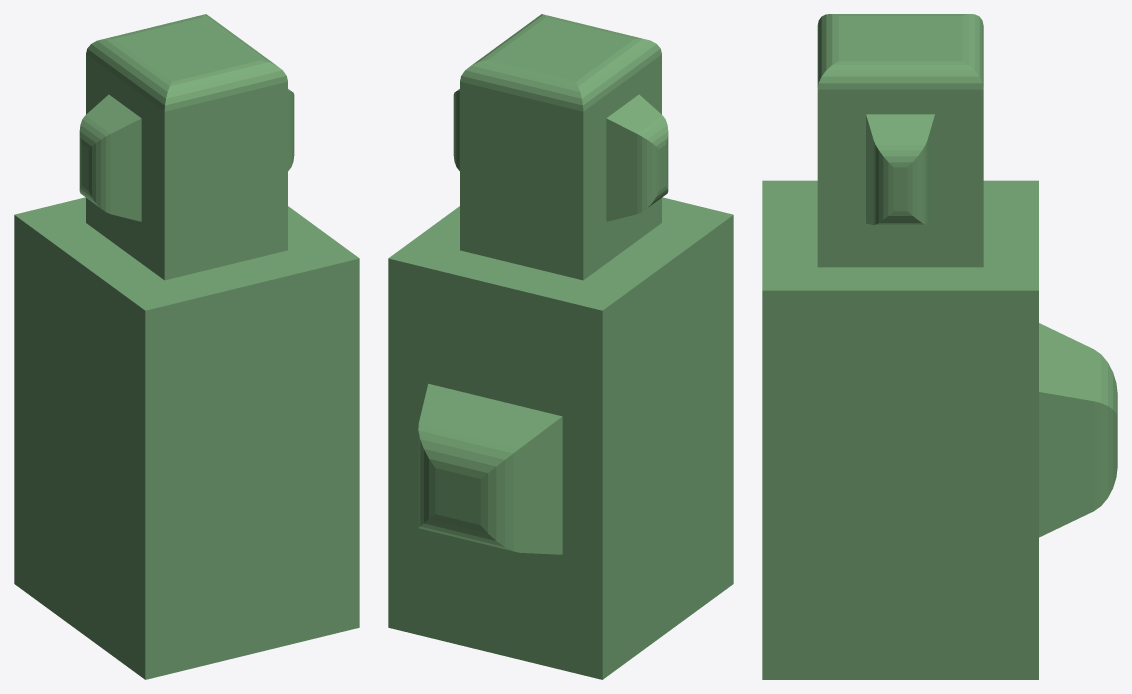
File: Figure_4.fbx
The picture shows the model from 3 angles, left to right: view 1: azimuth 30°, elevation 25°; view 2: azimuth 150°, elevation 25°; view 3: azimuth 270°, elevation 25°; orthographic projection. The views are drawn at different scales.
Parts seen in each view (by area): view 1: Figure4; view 2: Figure4; view 3: Figure4.
Boxes of the visible parts, left/top/right/bottom form: Figure4: left=14, top=14, right=359, bottom=679; Figure4: left=388, top=14, right=733, bottom=679; Figure4: left=762, top=14, right=1117, bottom=679.
Size of the model in its own units: 0.6888 by 0.9385 by 1.71.
